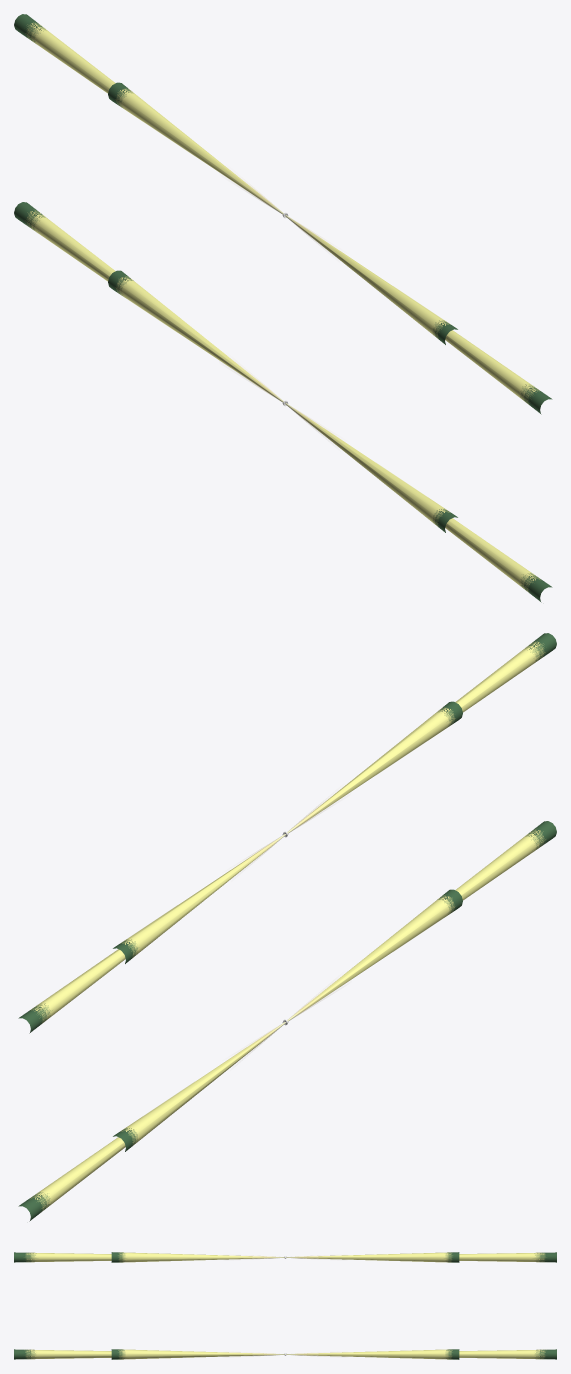
The model's file is lightBeam.glb.
The picture shows the model from 3 angles, top to bottom: view 1: azimuth 30°, elevation 25°; view 2: azimuth 150°, elevation 25°; view 3: azimuth 270°, elevation 25°; orthographic projection. The views are drawn at different scales.
Visible parts, largest first — view 1: light.png__, light-1.png__; view 2: light.png__, light-1.png__; view 3: light.png__, light-1.png__.
Part boxes in pixels (x1,y1,x2,y2): light.png__: (14,14,552,602); light-1.png__: (237,181,325,430); light.png__: (18,633,556,1221); light-1.png__: (245,800,333,1049); light.png__: (14,1252,556,1359); light-1.png__: (244,1255,326,1356).
Bounding box in the file's own units: 14.9 × 163 × 753.
Materials: 4 (2 with a texture image).
